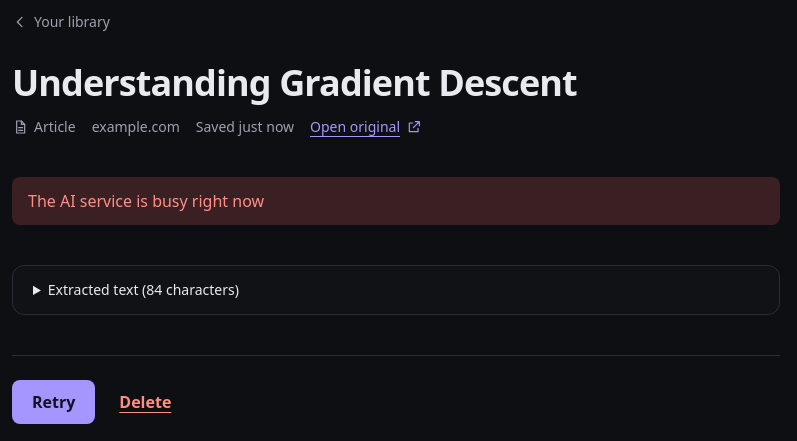
Scenario: ItemPage › explains a failure, keeps the extracted text, and retries on request
expect the message reads "The AI service is busy right now": met, box [28,190,264,212]
expect the heading "Extracted text (84 characters)" is shown: met, box [48,280,239,299]
Click the button "Retry" at coordinates (54, 402), box [12,380,95,424]
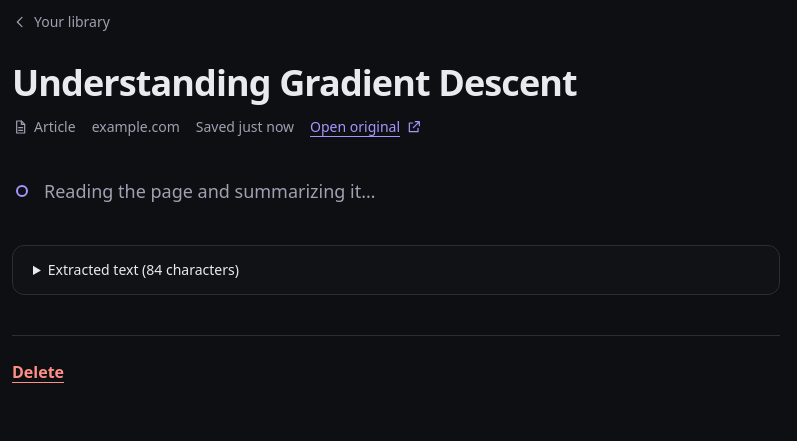
expect the message shows "summarizing": met, box [44,179,376,203]
